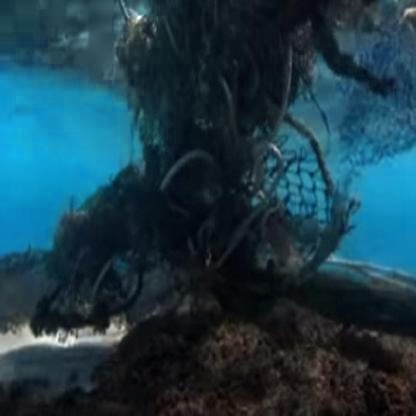net: (113, 24, 339, 269)
